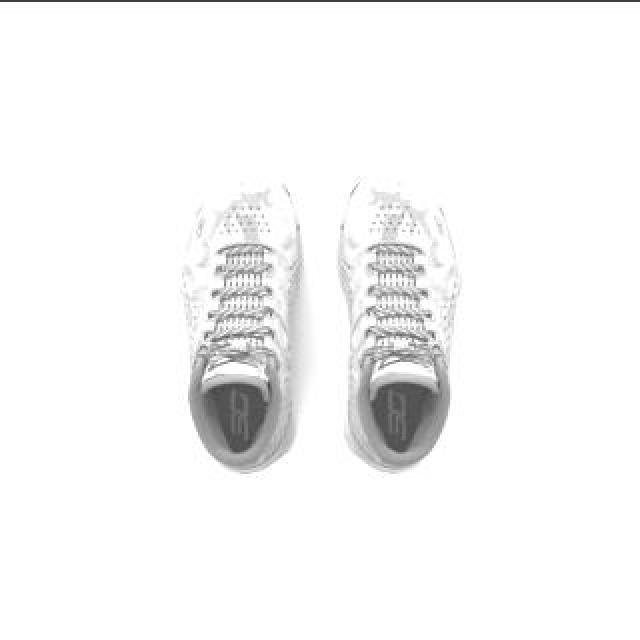shoe: (334, 169, 462, 473), (179, 168, 303, 472)
